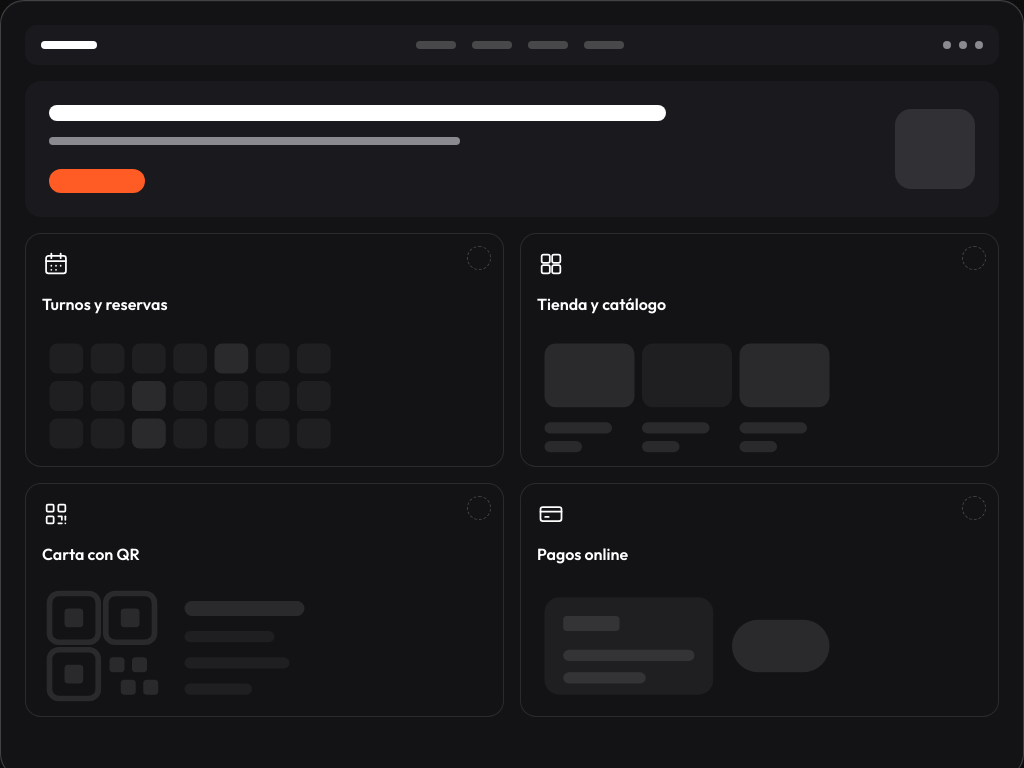
Test: HeroMockup › cuenta lo activado cuando no hay pista
Click the button "Turnos y reservas": (264, 350) [25,233,504,467]
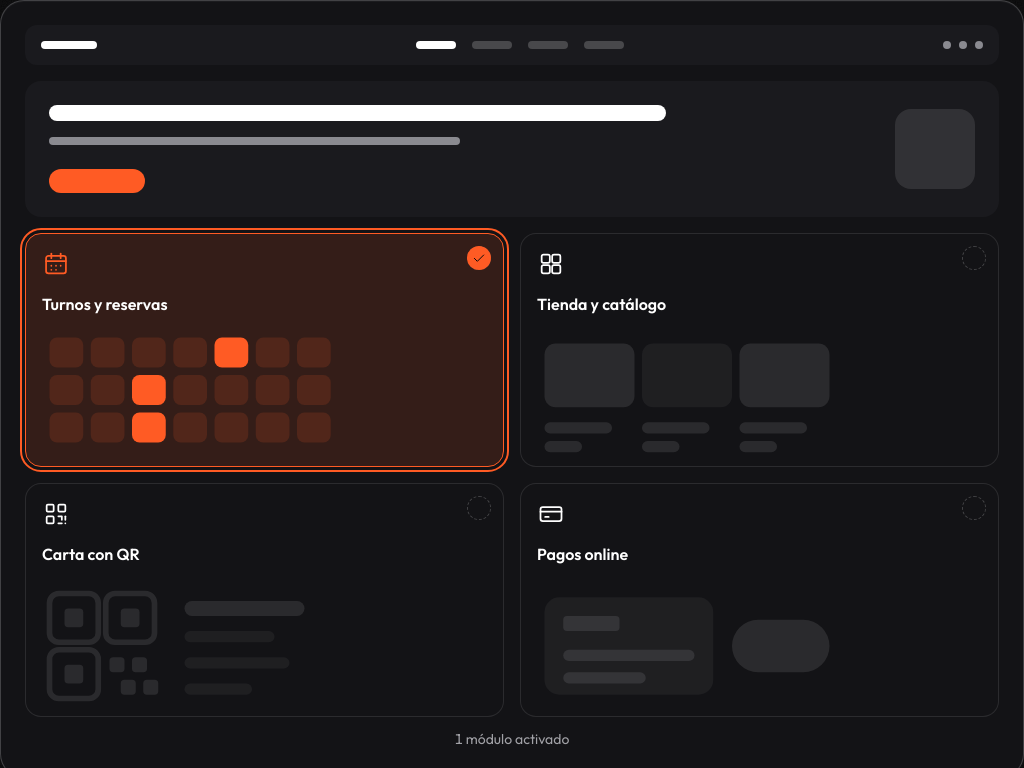
Click the button "Pagos online": (760, 600) [520,483,999,717]
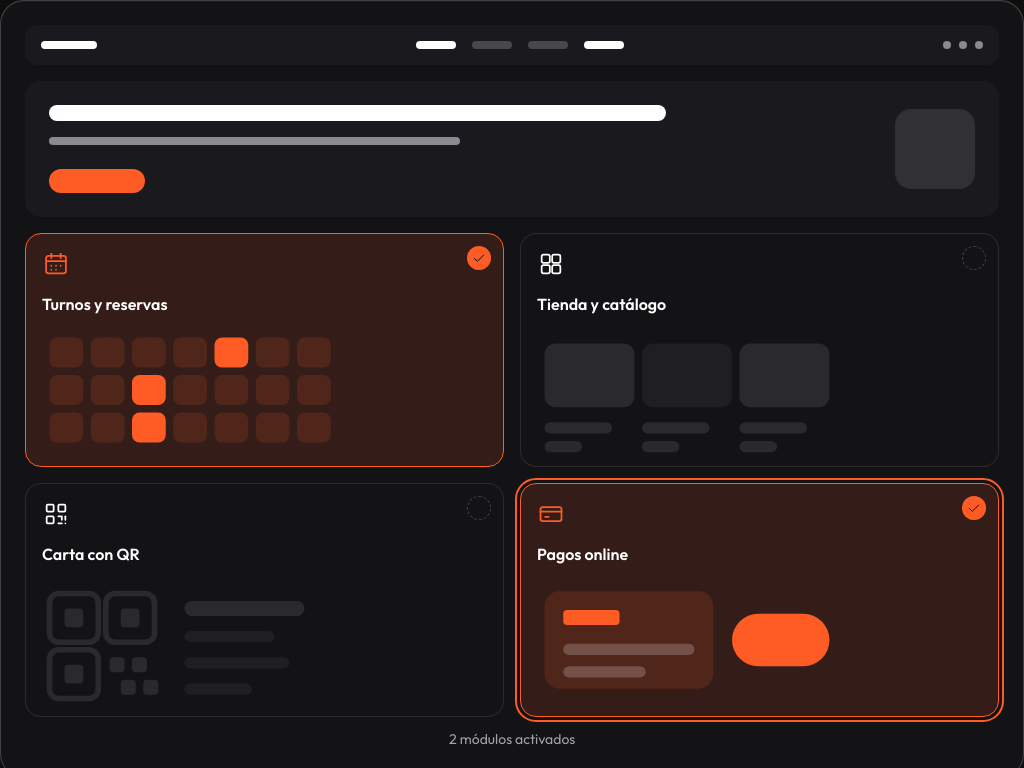
Now the text "2 módulos activados" is shown, box [449,730,575,748]
